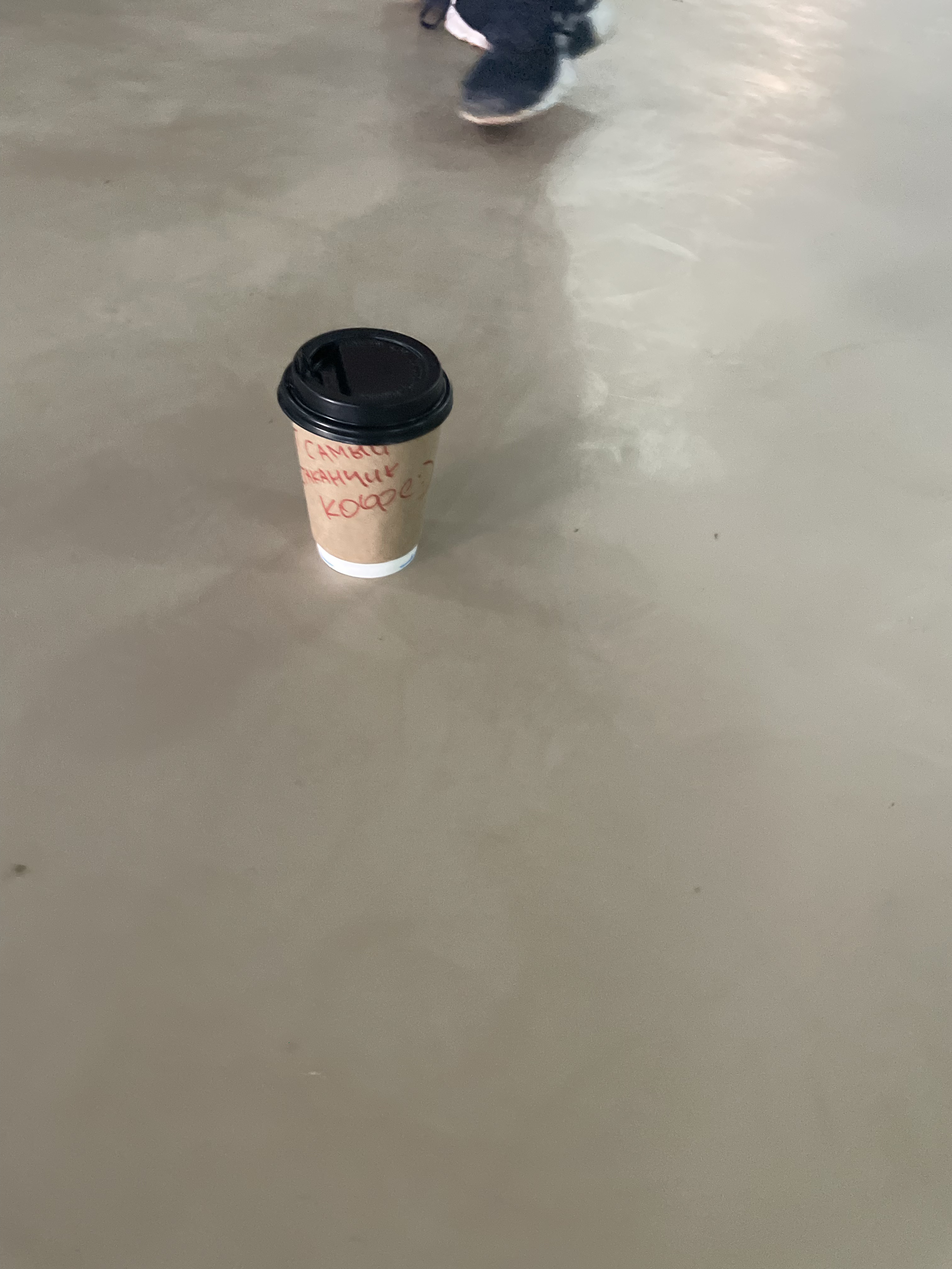cup: (276, 327, 454, 580)
